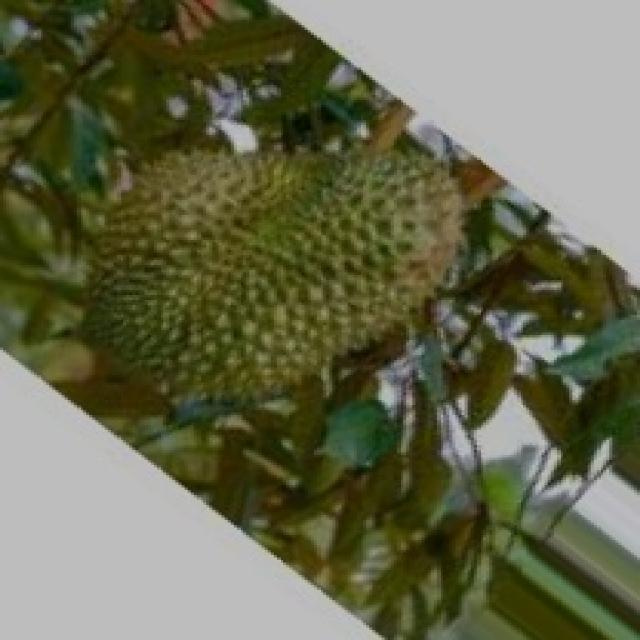fruit: (9, 98, 440, 478)
